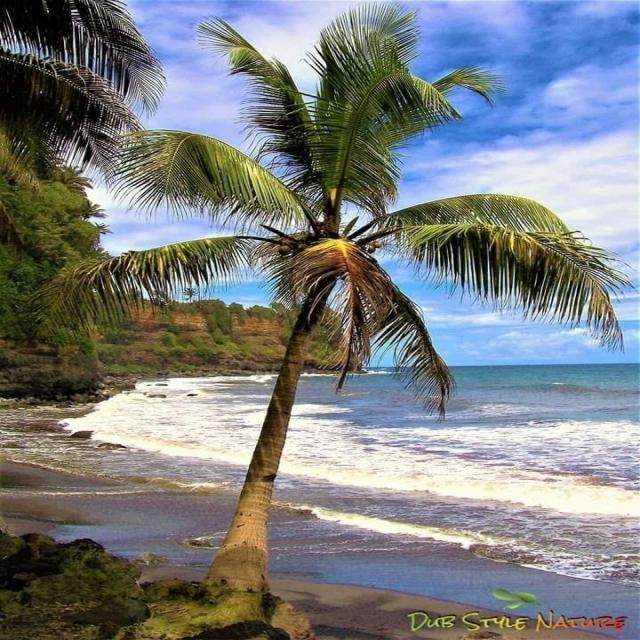Coconut-tree: (120, 36, 449, 640), (209, 54, 380, 410)
